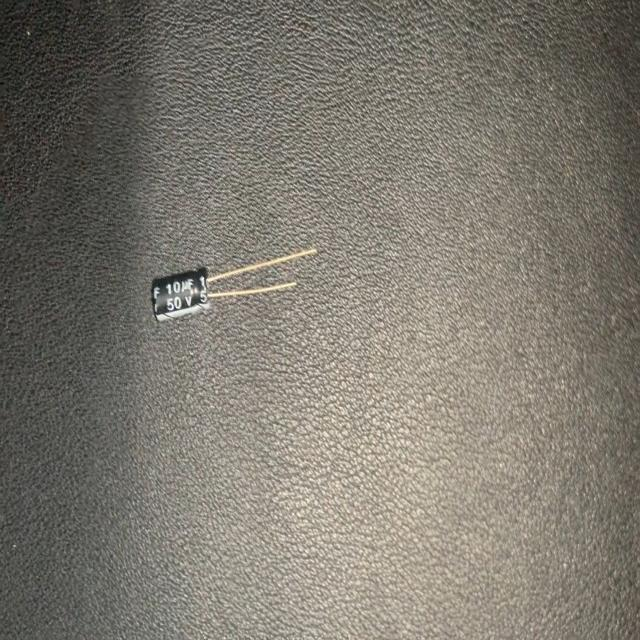capacitor: (152, 250, 319, 322)
